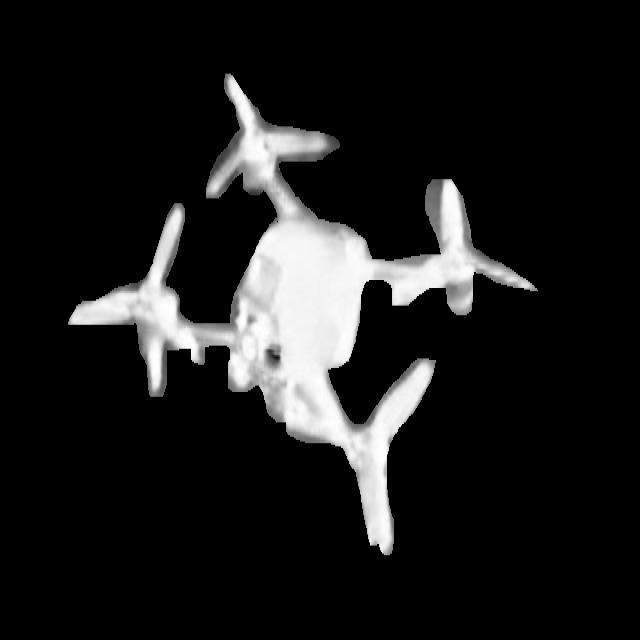drone: (66, 69, 538, 558)
